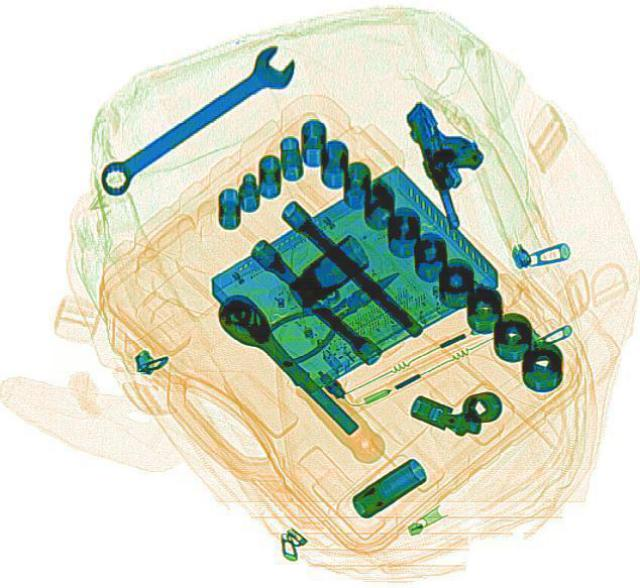Gun: (398, 91, 504, 228)
Pliers: (252, 253, 414, 371)
Wrench: (88, 37, 306, 204)
